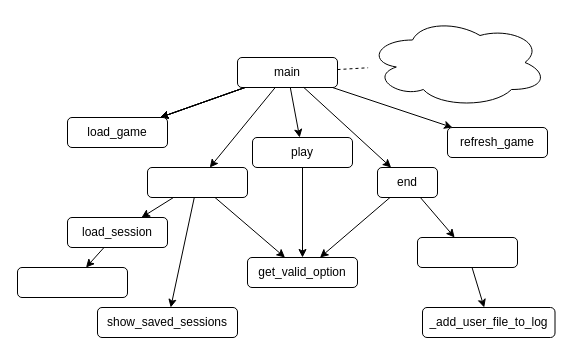
Some shapes in this 573 by 355 pixel diagram are drawn without their labels. Each missing label, with the centre of its shape:
"_load_user_log" belongs at pixel 72 282.
"Not actually a function, but the main.py script" belongs at pixel 457 62.
"save_session" belongs at pixel 467 252.
"welcome" belongs at pixel 197 182.
